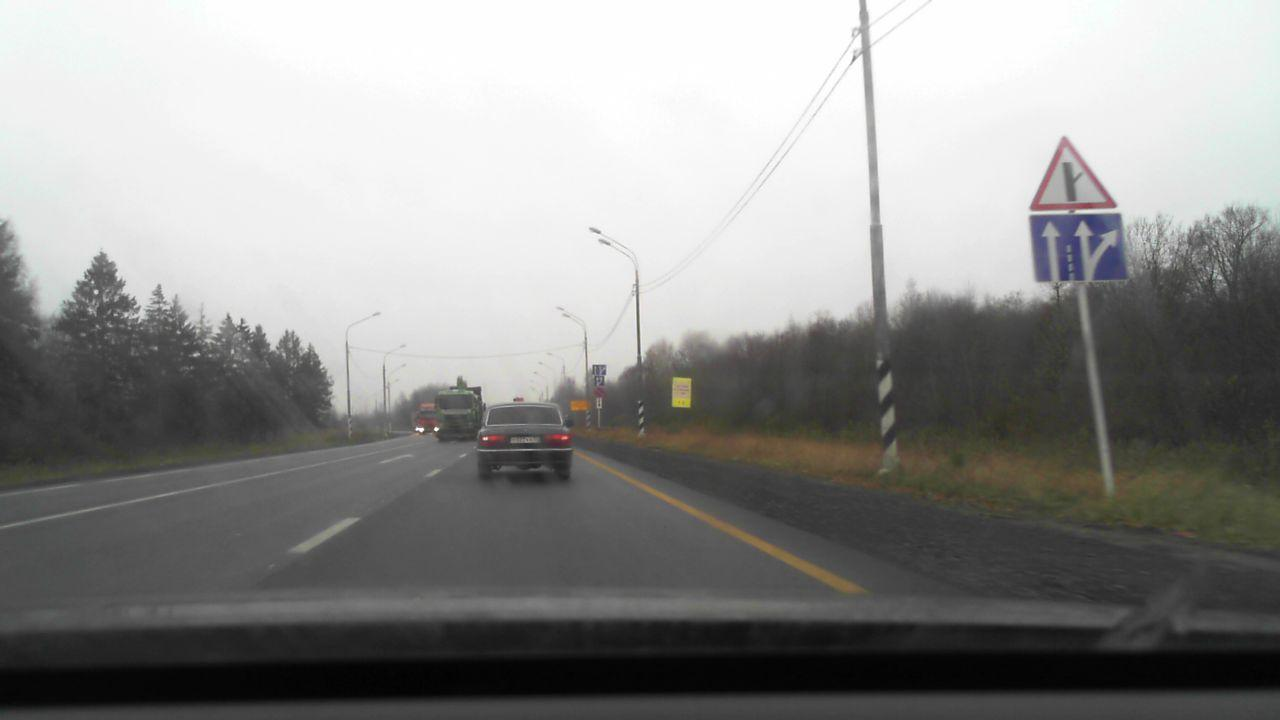2_3_4: (1029, 135, 1119, 211)
3_27: (594, 387, 605, 397)
5_15_1: (1030, 215, 1125, 287), (592, 365, 607, 374)
5_15_3: (595, 376, 605, 386)
8_2_3: (597, 397, 602, 408)
